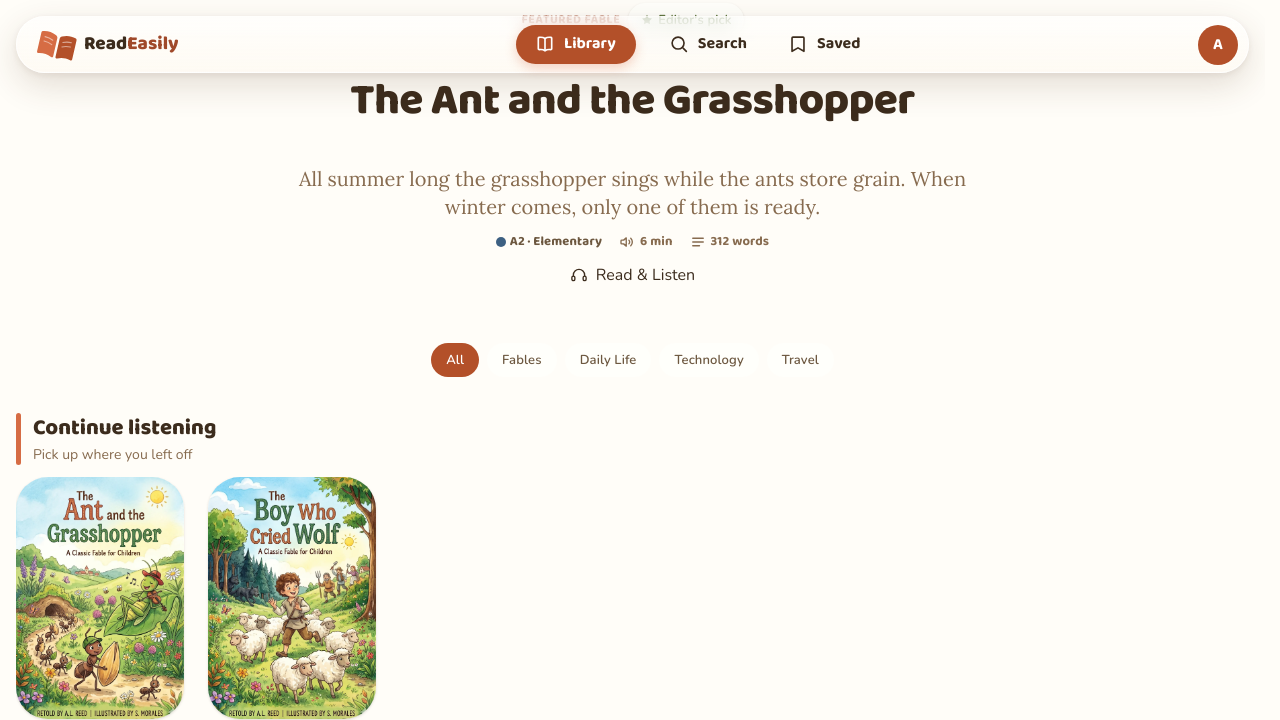
Scenario: LibraryScreen › filters the visible rails when a category chip is selected
(page scrolled)
Expected: the heading "The Ant and the Grasshopper" is shown, [350, 49, 915, 153]
Click the radio button labelled "Travel": coordinates (800, 360) [767, 343, 834, 377]
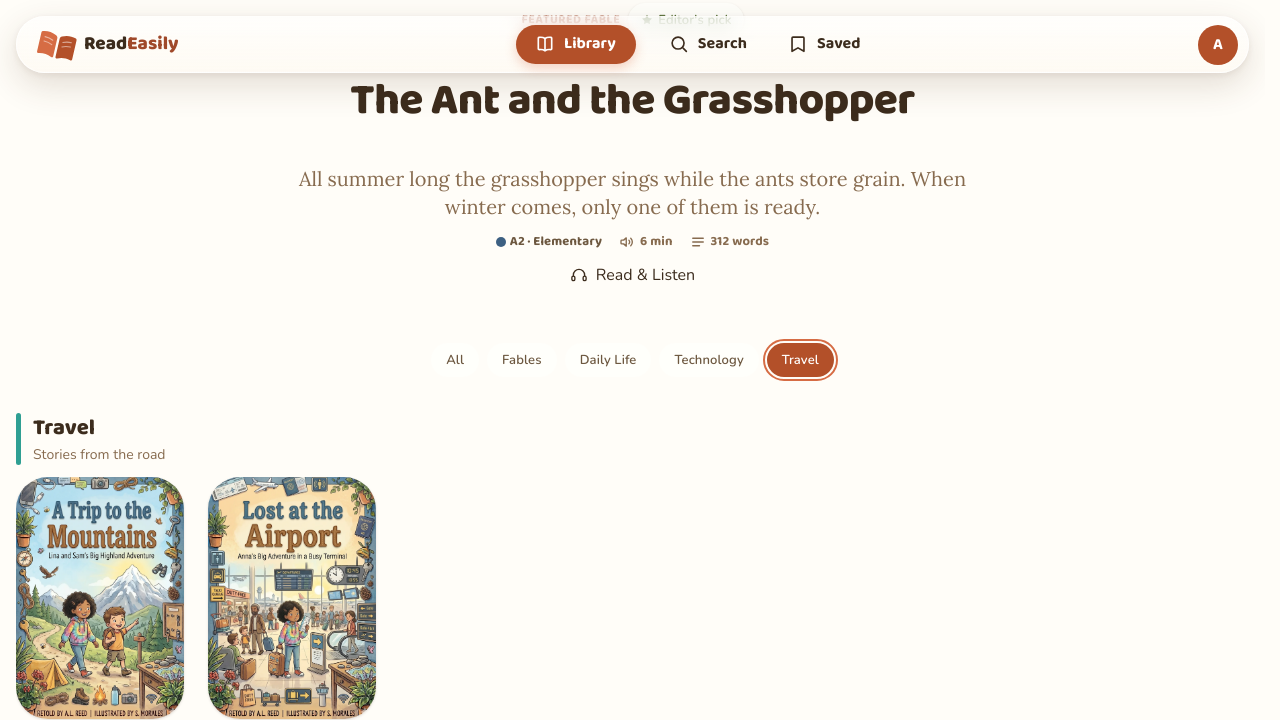
Expected: the heading "Travel" is shown, [33, 410, 95, 446]
Expected: the heading "Continue listening" is gone
